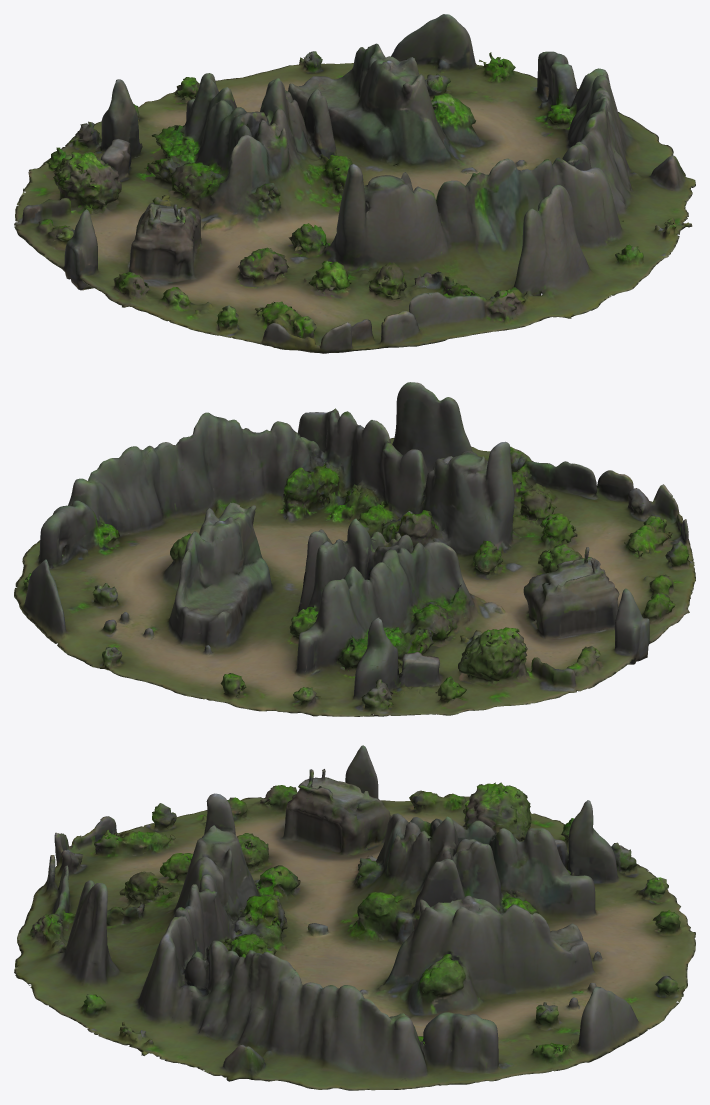
Rendered from Meshy_AI_Mountain_Fortress_Pat_0319011153_texture.glb.
3 views of the same model, one above another, from view 1: azimuth 30°, elevation 25°; view 2: azimuth 150°, elevation 25°; view 3: azimuth 270°, elevation 25° (orthographic). The views are drawn at different scales.
Bounding box in the file's own units: 2 × 0.3963 × 1.97.
Materials: 1 (1 with a texture image).
